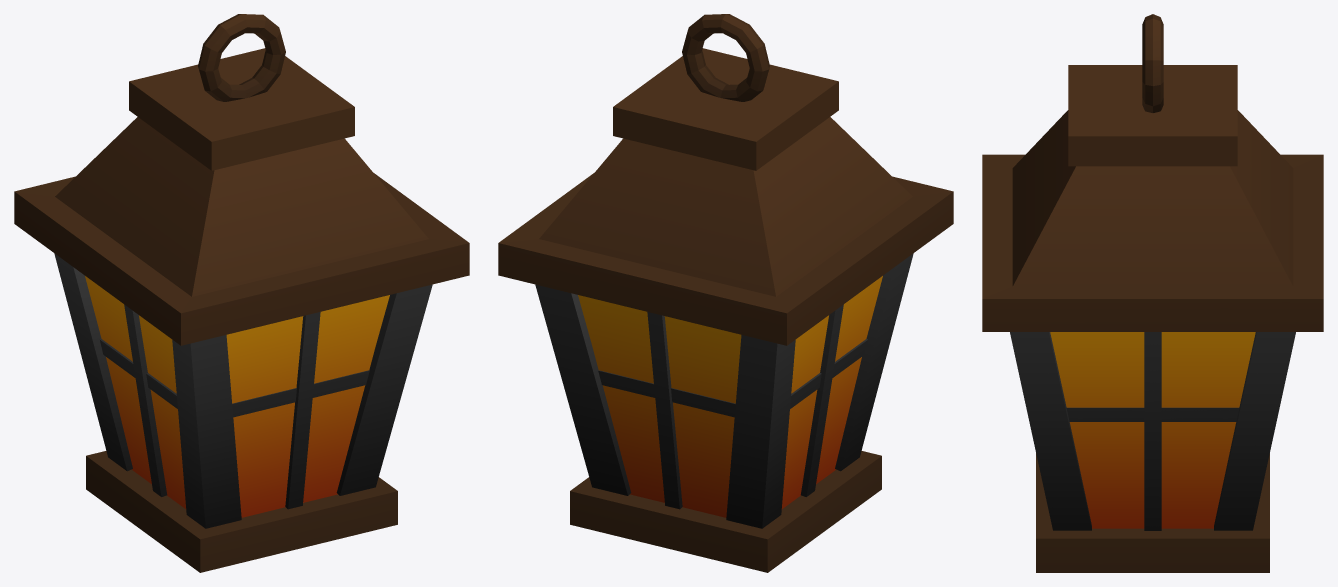
The model's file is TestiAsset.fbx.
3 views of the same model, side by side, from view 1: azimuth 30°, elevation 25°; view 2: azimuth 150°, elevation 25°; view 3: azimuth 270°, elevation 25° (orthographic). The views are drawn at different scales.
Parts seen in each view (by area): view 1: Plane.566, Plane.571, Plane.569, Plane.570, Plane.567, Plane.568, Plane.572, Circle.037; view 2: Plane.566, Plane.571, Plane.569, Plane.570, Plane.567, Plane.568, Plane.572, Circle.037; view 3: Plane.566, Plane.571, Plane.569, Plane.567, Plane.570, Plane.568, Plane.572, Circle.037.
Part boxes in pixels (left/top/right/bottom): Plane.566: left=55, top=117, right=428, bottom=296; Plane.571: left=85, top=276, right=389, bottom=517; Plane.569: left=14, top=173, right=469, bottom=345; Plane.570: left=54, top=253, right=432, bottom=528; Plane.567: left=129, top=48, right=354, bottom=170; Plane.568: left=86, top=451, right=397, bottom=572; Plane.572: left=100, top=304, right=369, bottom=509; Circle.037: left=198, top=14, right=285, bottom=101; Plane.566: left=539, top=117, right=912, bottom=296; Plane.571: left=578, top=276, right=882, bottom=517; Plane.569: left=498, top=173, right=953, bottom=345; Plane.570: left=535, top=253, right=913, bottom=528; Plane.567: left=613, top=48, right=838, bottom=170; Plane.568: left=570, top=451, right=881, bottom=572; Plane.572: left=598, top=304, right=867, bottom=509; Circle.037: left=682, top=14, right=769, bottom=101; Plane.566: left=1012, top=110, right=1293, bottom=286; Plane.571: left=1050, top=332, right=1255, bottom=528; Plane.569: left=982, top=154, right=1323, bottom=331; Plane.567: left=1068, top=65, right=1237, bottom=166; Plane.570: left=1010, top=332, right=1295, bottom=530; Plane.568: left=1036, top=453, right=1269, bottom=572; Plane.572: left=1066, top=332, right=1239, bottom=530; Circle.037: left=1142, top=14, right=1163, bottom=112.
Size of the model in its own units: 44.33 by 72.36 by 44.33.
1 material, 1 textured.
